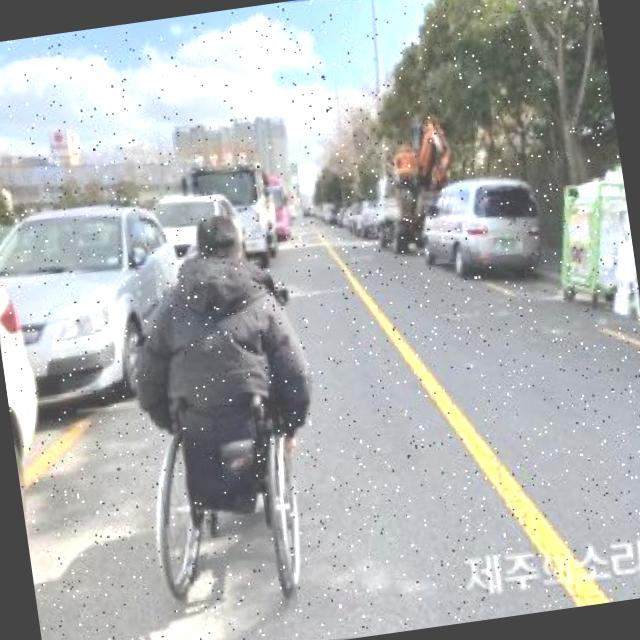Person: (115, 210, 340, 609)
